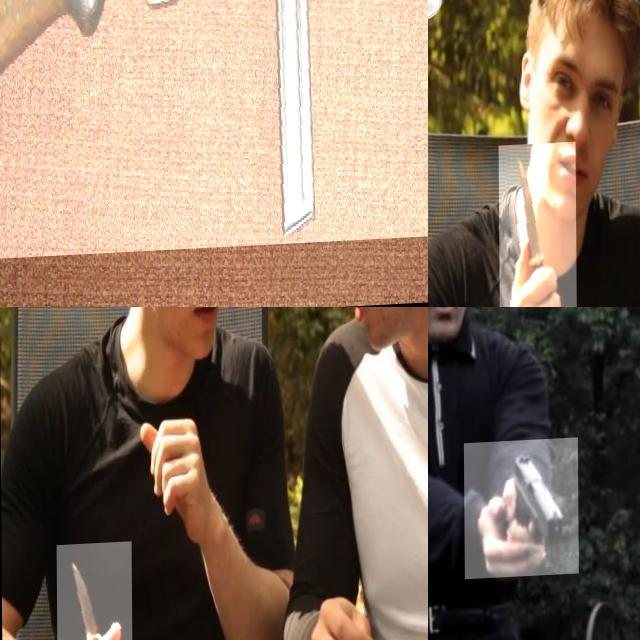-: (498, 143, 576, 307), (55, 542, 131, 640)
gun-knife-thesis - v11 Yolov5 augmented: (0, 0, 428, 287), (463, 442, 578, 582)
